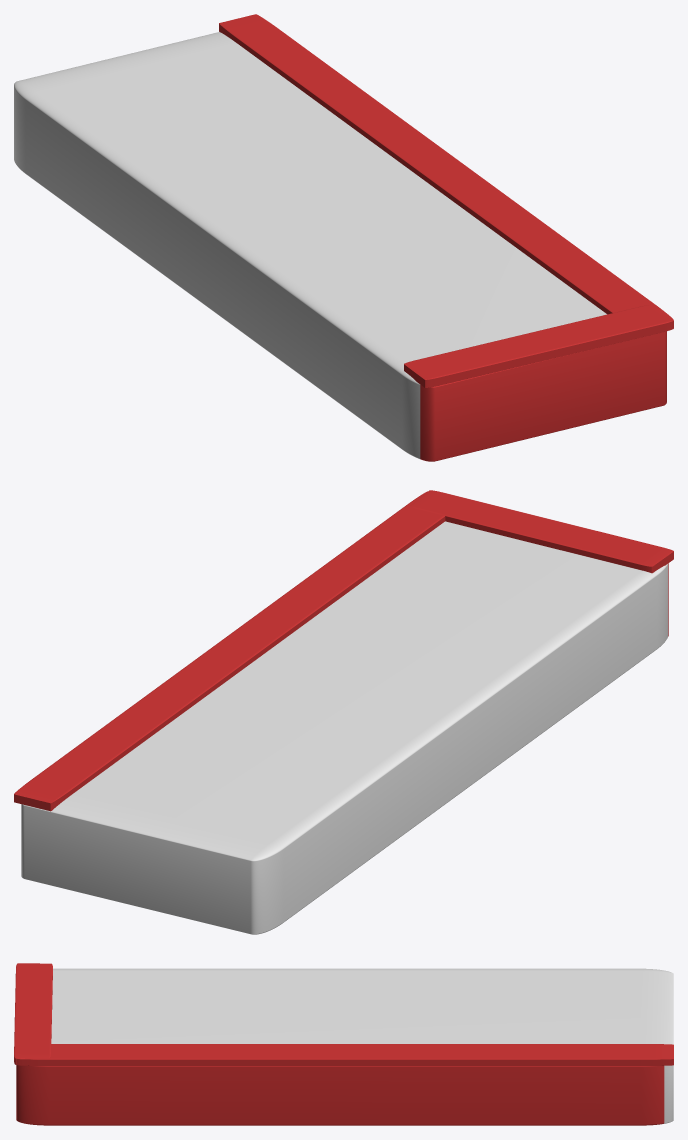
File: Lsidewalk.fbx
The picture shows the model from 3 angles, top to bottom: view 1: azimuth 30°, elevation 25°; view 2: azimuth 150°, elevation 25°; view 3: azimuth 270°, elevation 25°; orthographic projection. The views are drawn at different scales.
Visible parts, largest first — view 1: Cube, 立方體, 立方體.001; view 2: Cube, 立方體, 立方體.001; view 3: Cube, 立方體, 立方體.001.
Part boxes in pixels (<box>): Cube: <box>14,32,666,461</box>; 立方體: <box>219,14,673,319</box>; 立方體.001: <box>404,304,673,387</box>; Cube: <box>21,521,668,934</box>; 立方體: <box>14,491,445,811</box>; 立方體.001: <box>409,490,673,573</box>; Cube: <box>16,968,673,1125</box>; 立方體: <box>17,1044,673,1065</box>; 立方體.001: <box>14,963,52,1064</box>.
Size of the model in its own units: 811 by 267 by 2328.
